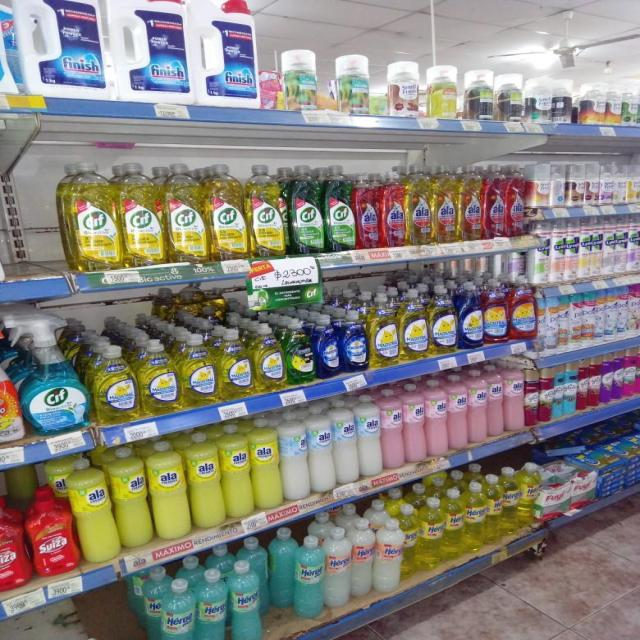ala_conc_amarillo: (432, 164, 459, 244), (406, 165, 432, 245), (460, 164, 483, 242)
ala_conc_rojo: (380, 168, 405, 248), (355, 171, 379, 249), (484, 163, 506, 239), (506, 164, 525, 237)
ala_crem_amarillo: (73, 454, 115, 564), (150, 439, 188, 541), (113, 446, 149, 550), (188, 431, 221, 530), (222, 422, 251, 521), (251, 418, 281, 511)
ala_crem_blanco: (281, 408, 308, 502), (309, 404, 333, 495), (334, 398, 358, 485), (358, 394, 381, 477)
ala_crem_rosado: (404, 383, 426, 464), (382, 388, 403, 472), (426, 378, 447, 458), (448, 374, 468, 451), (468, 368, 486, 445), (505, 363, 524, 433), (487, 365, 504, 439)
cif_conc_bot_amarilla: (63, 160, 118, 272), (120, 161, 163, 267), (165, 162, 206, 264), (207, 163, 246, 260), (248, 165, 285, 258)
cif_conc_botella_verde: (288, 164, 323, 254), (325, 165, 354, 252)
heroe: (293, 532, 324, 620), (229, 560, 262, 640), (195, 569, 228, 640), (374, 518, 403, 593), (160, 577, 194, 640), (325, 526, 350, 608), (352, 518, 374, 598)
magistral_con_amarillo: (92, 344, 137, 424), (139, 338, 179, 415), (180, 333, 217, 407), (218, 328, 251, 400), (369, 291, 398, 368), (253, 322, 284, 393), (399, 286, 428, 361), (429, 283, 456, 355)
magistral_con_azul: (24, 328, 88, 435), (458, 280, 483, 350), (341, 309, 368, 373), (315, 314, 340, 378)
magistral_con_rojo: (510, 276, 535, 340), (484, 279, 508, 344)
magistral_con_verde: (286, 319, 314, 385)
